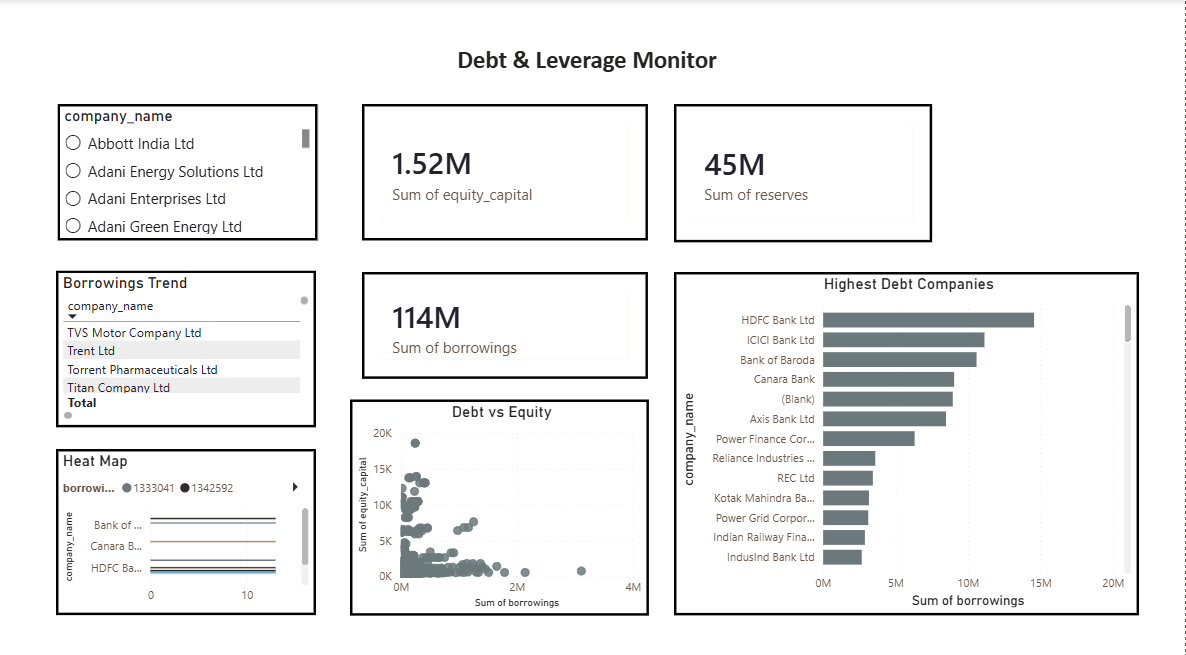

This screenshot's page, from the dashboard's own definition file:
{"tool":"powerbi","page":{"name":"Debt & Leverage Monitor","canvas":[1280,720],"ordinal":5},"visuals":[{"type":"listSlicer","fields":{"Values":["Companies  |  92 records (Companies).company_name"]},"box":[63.7,113.5,280.8,147.4],"z":0},{"type":"textbox","box":[38.9,43.7,1191.8,53.4],"z":1000},{"type":"cardVisual","fields":{"Data":["Sum(Balance Sheet  |  1,312 records (Balance Sheet.borrowings)"]},"box":[392.4,294.8,308.7,115.5],"z":2000},{"type":"cardVisual","fields":{"Data":["Sum(Balance Sheet  |  1,312 records (Balance Sheet.equity_capital)"]},"box":[392.4,113.5,308.7,147.4],"z":3000},{"type":"cardVisual","fields":{"Data":["Sum(Balance Sheet  |  1,312 records (Balance Sheet.reserves)"]},"box":[729,113.5,278.8,149.4],"z":4000},{"type":"pivotTable","title":"Borrowings Trend","fields":{"Rows":["Companies  |  92 records (Companies).company_name"],"Columns":["Profit & Loss  |  1,276 records (Profit & Loss.year"],"Values":["Sum(Balance Sheet  |  1,312 records (Balance Sheet.equity_capital)"]},"box":[61.7,292.8,280.8,169.3],"z":5000},{"type":"clusteredBarChart","title":"Heat Map","fields":{"Category":["Companies  |  92 records (Companies).company_name"],"Y":["CountNonNull(Profit & Loss  |  1,276 records (Profit & Loss.year)"],"Series":["Balance Sheet  |  1,312 records (Balance Sheet.borrowings"]},"box":[61.7,486,280.8,179.3],"z":6000},{"type":"scatterChart","title":"Debt vs Equity","fields":{"X":["Sum(Balance Sheet  |  1,312 records (Balance Sheet.borrowings)"],"Y":["Sum(Balance Sheet  |  1,312 records (Balance Sheet.equity_capital)"],"Category":["Balance Sheet  |  1,312 records (Balance Sheet.total_assets"]},"box":[378.4,432.2,322.7,233],"z":7000},{"type":"clusteredBarChart","title":"Highest Debt Companies","fields":{"Category":["Companies  |  92 records (Companies).company_name"],"Y":["Sum(Balance Sheet  |  1,312 records (Balance Sheet.borrowings)"]},"box":[729,294.8,501.9,370.5],"z":8000}]}

Visuals, with their boxes in screenshot pixels (x1, y1, x2, y2), scaled from the page's 1280x720 canvas onto the 1186x655 screenshot:
listSlicer - Companies  |  92 records (Companies).company_name: [x1=59, y1=103, x2=319, y2=237]
textbox: [x1=36, y1=40, x2=1140, y2=88]
cardVisual - Sum(Balance Sheet  |  1,312 records (Balance Sheet.borrowings): [x1=364, y1=268, x2=650, y2=373]
cardVisual - Sum(Balance Sheet  |  1,312 records (Balance Sheet.equity_capital): [x1=364, y1=103, x2=650, y2=237]
cardVisual - Sum(Balance Sheet  |  1,312 records (Balance Sheet.reserves): [x1=675, y1=103, x2=934, y2=239]
"Borrowings Trend" pivotTable: [x1=57, y1=266, x2=317, y2=420]
"Heat Map" clusteredBarChart: [x1=57, y1=442, x2=317, y2=605]
"Debt vs Equity" scatterChart: [x1=351, y1=393, x2=650, y2=605]
"Highest Debt Companies" clusteredBarChart: [x1=675, y1=268, x2=1141, y2=605]
